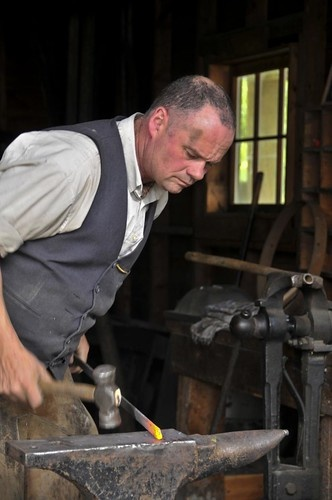hammer: (51, 363, 122, 432)
